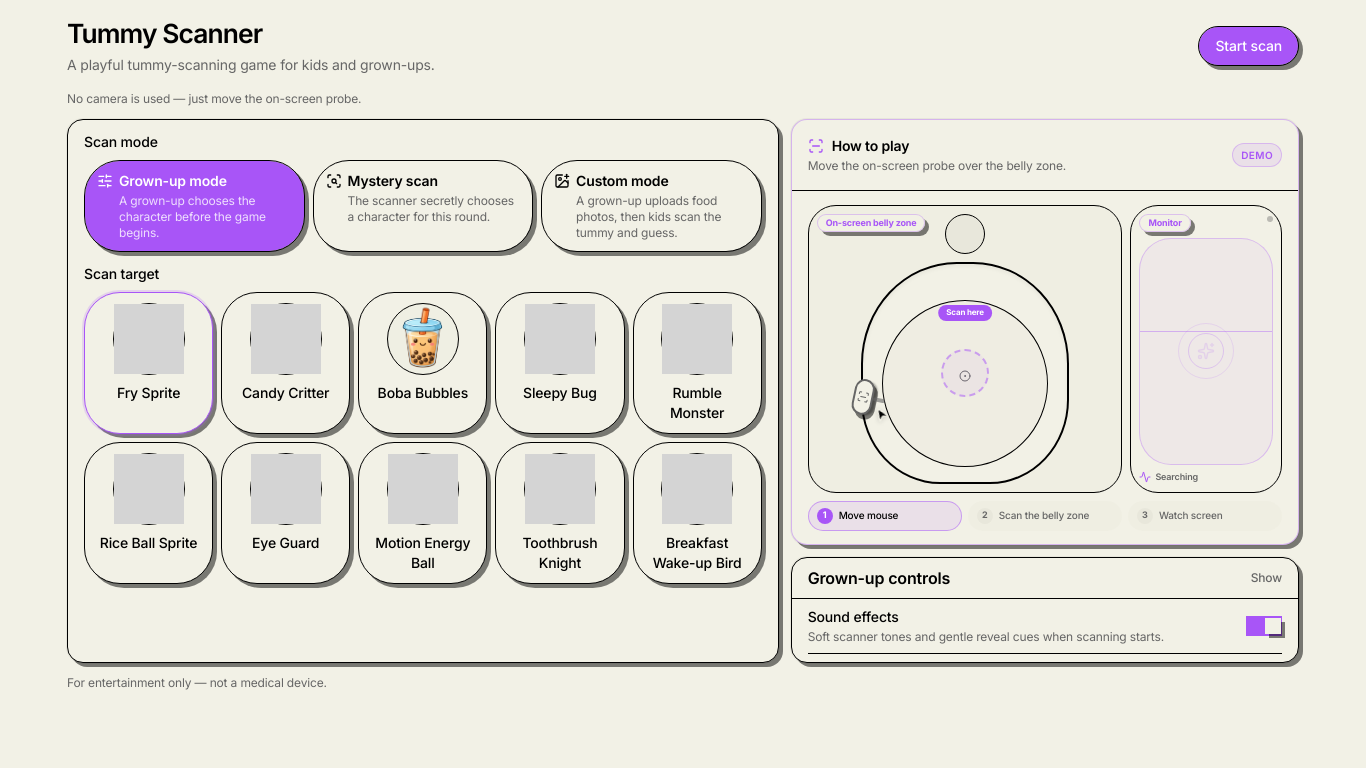
DuduScannerConfigShell › lists localized shortcut guidance
Expected: the text "Grown-up controls" is shown, left=808, top=568, right=950, bottom=588
Step 1. Click the heading "Grown-up controls Show" → (879, 578), box left=808, top=566, right=1282, bottom=590
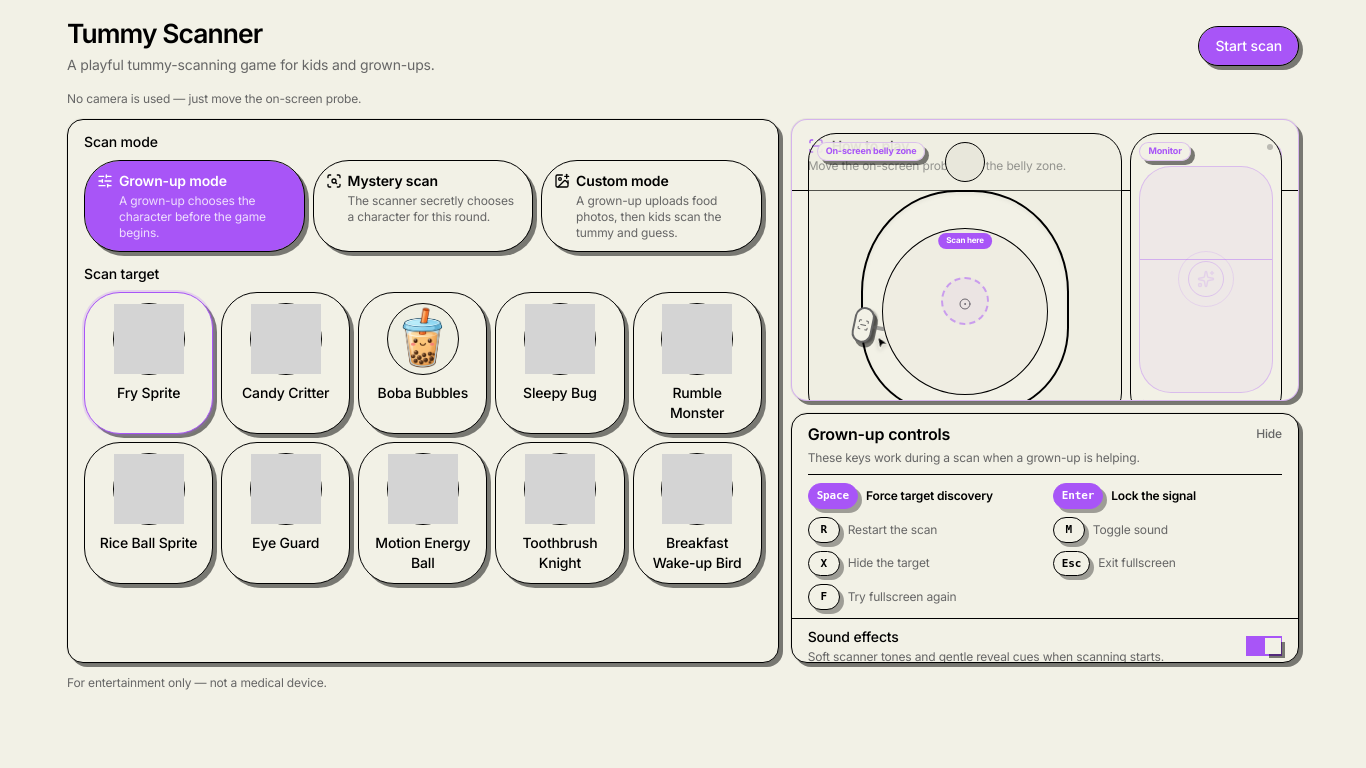
Expected: the text "Force target discovery" is shown, left=866, top=488, right=993, bottom=504
